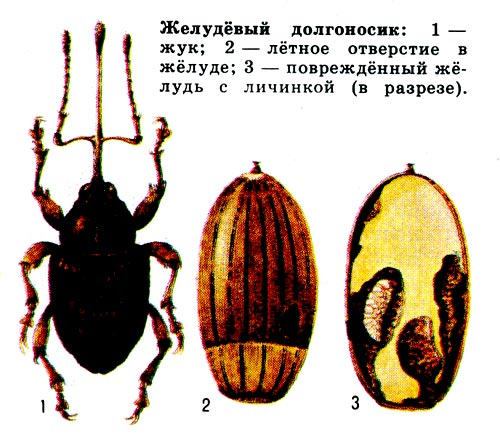dolgonosik: (21, 17, 189, 425)
